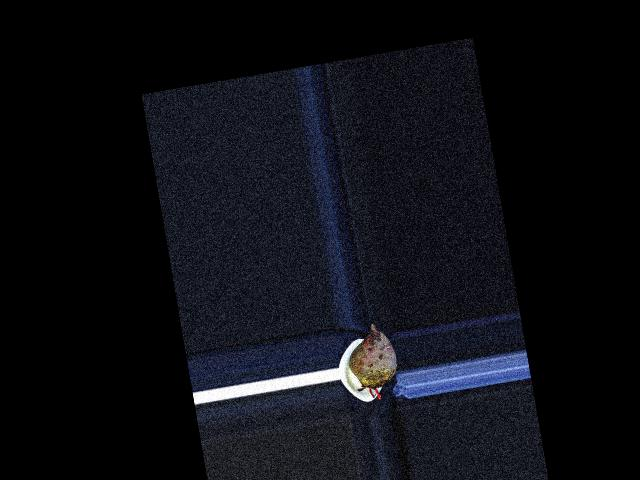beet: (343, 321, 401, 403)
